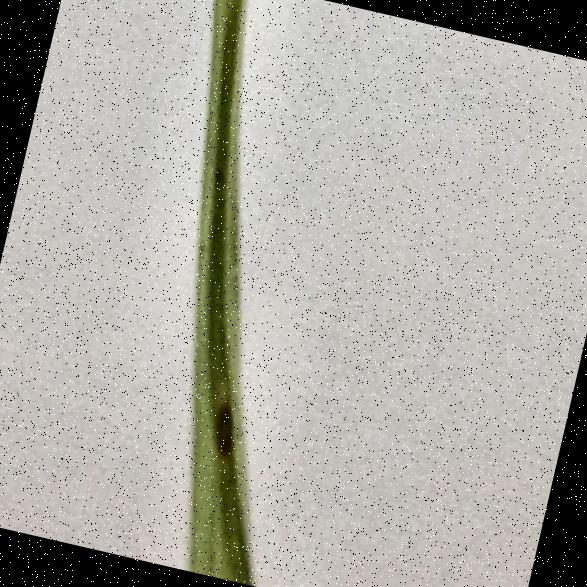Leaf_smut: (194, 375, 247, 464)
